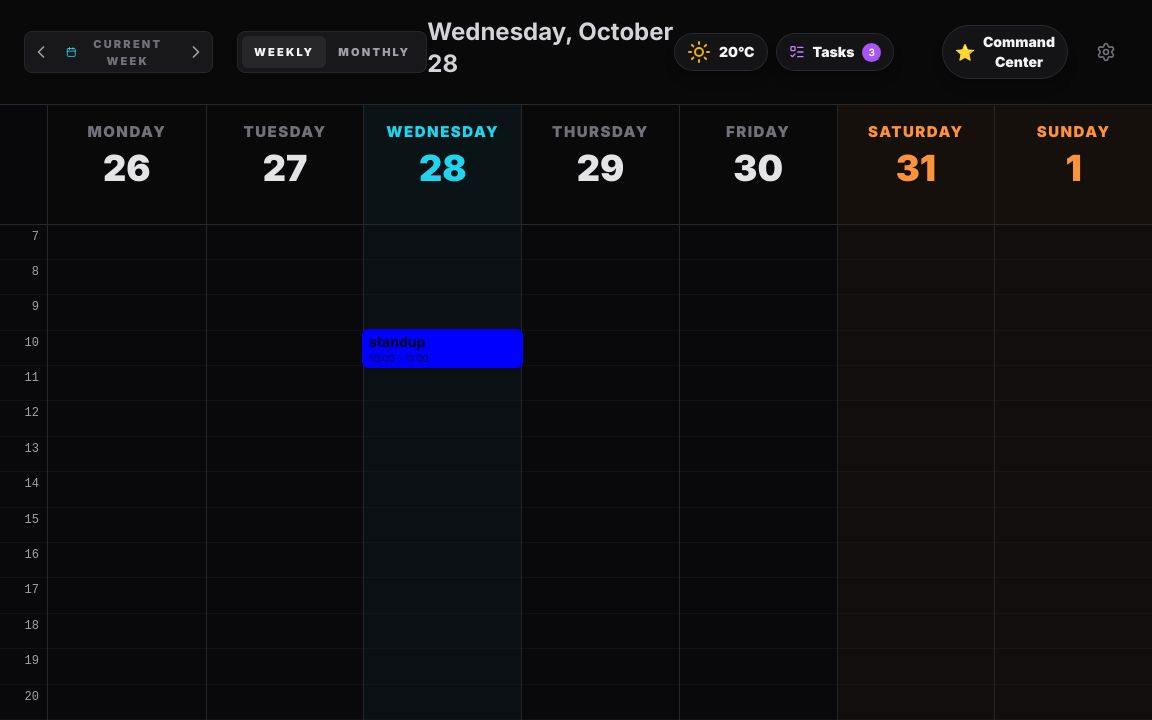
Scenario: Back from Mission Control after the sign-in changed › a sign-out while Mission Control is on screen: Sign in, never the week before it
Click the button with test id "switch-to-mc-btn" at (1005,52), box [942,25,1068,79]
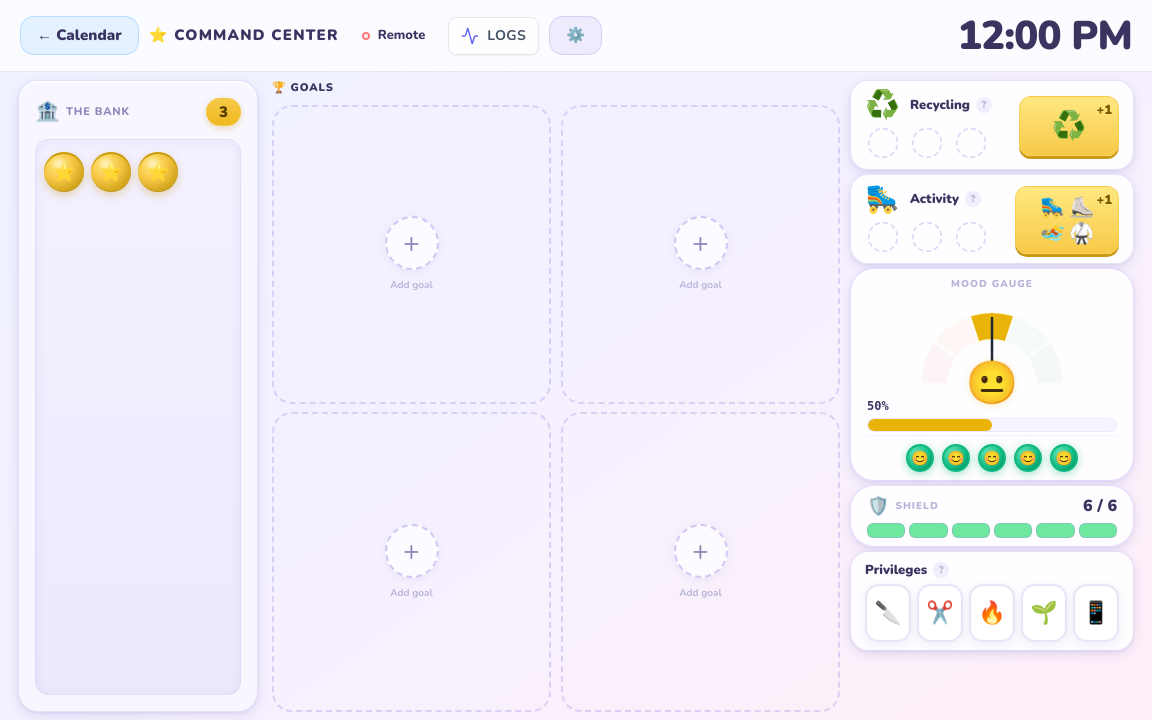
Click the button with test id "mc-back-to-calendar-btn" at (79,36), box [20,16,139,55]
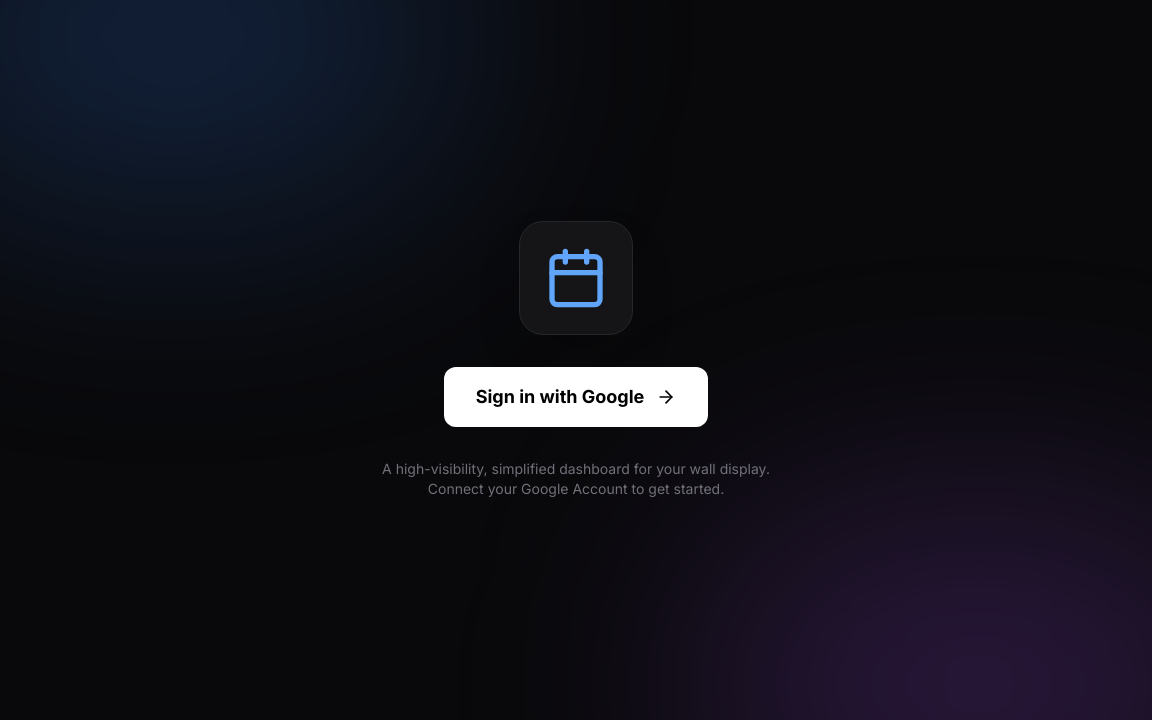
Now the button with test id "login-button" is shown, box [444,367,708,427]
